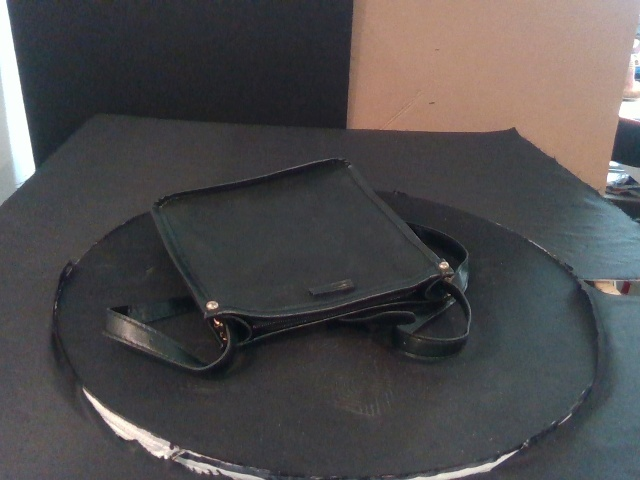bag: (152, 157, 455, 350)
